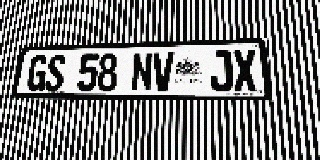5: (77, 54, 99, 91)
8: (97, 53, 119, 91)
G: (26, 55, 49, 91)
J: (209, 50, 233, 91)
N: (131, 52, 153, 91)
S: (44, 55, 67, 91)
V: (152, 52, 174, 91)
X: (232, 49, 258, 91)
